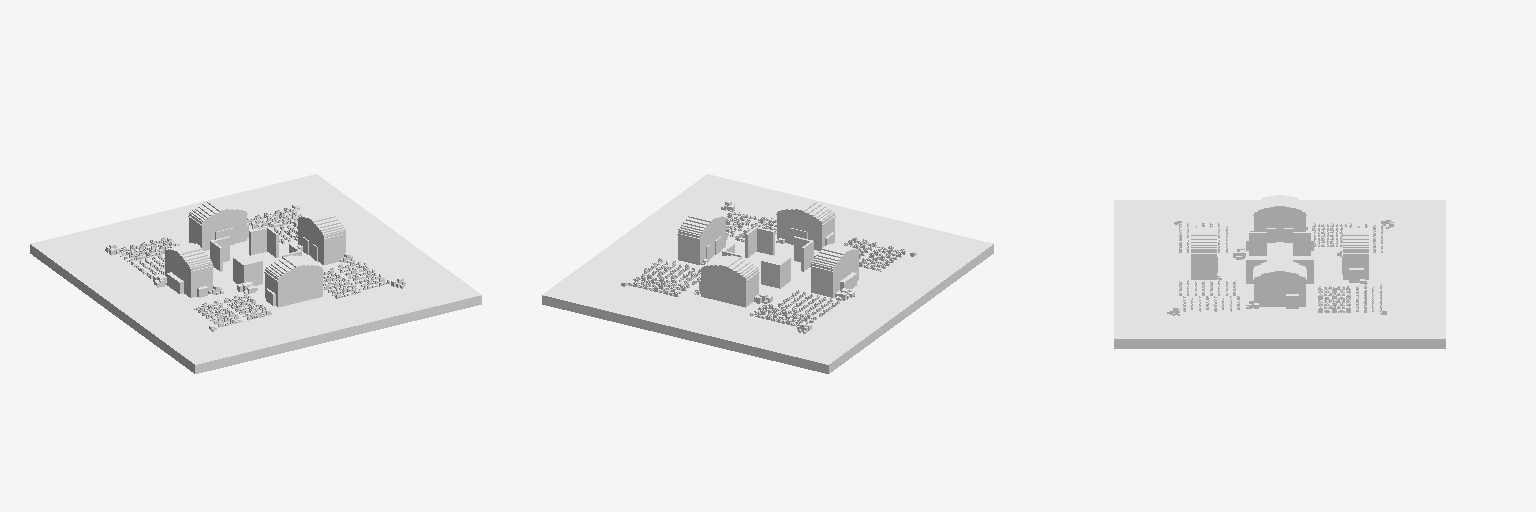
Rendered from Granja.obj.
3 renders of one model, left to right at view 1: azimuth 30°, elevation 25°; view 2: azimuth 150°, elevation 25°; view 3: azimuth 270°, elevation 25°, orthographic.
Visible parts, largest first — view 1: object 1; view 2: object 1; view 3: object 1.
Boxes of the visible parts, x1,y1,x2,y2 form: object 1: [30, 174, 481, 373]; object 1: [542, 174, 993, 373]; object 1: [1114, 195, 1445, 348].
Bounding box in the file's own units: 25.6 × 3.9 × 25.6.